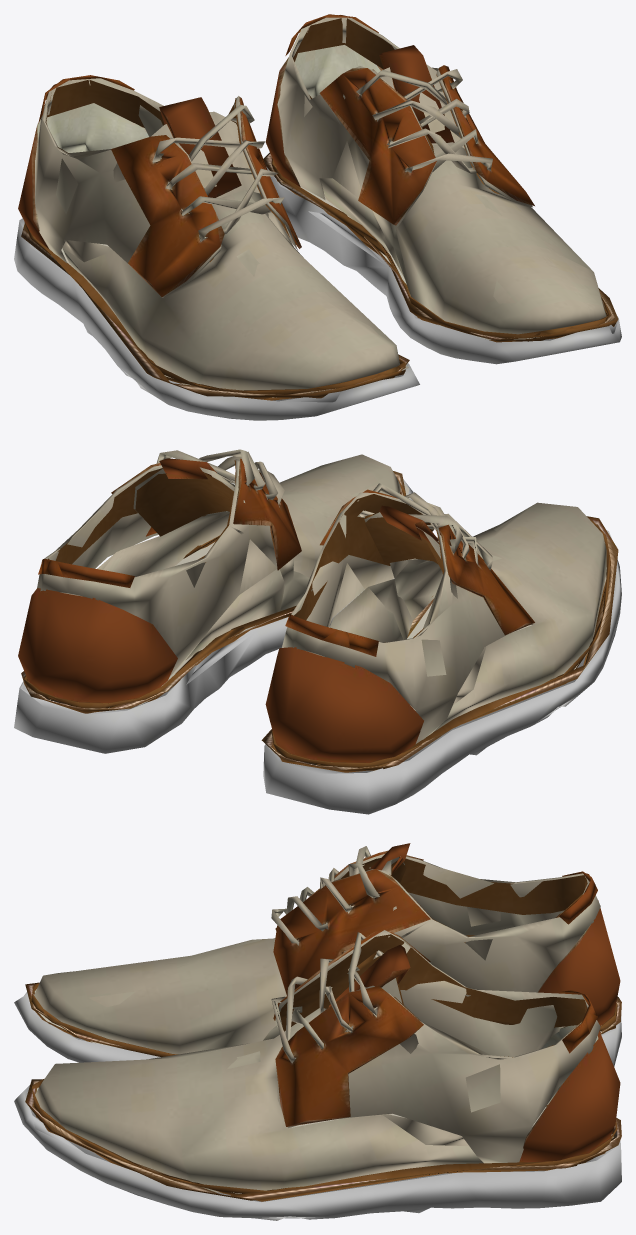
The model's file is shoes_tan.glb.
The picture shows the model from 3 angles, top to bottom: view 1: azimuth 30°, elevation 25°; view 2: azimuth 150°, elevation 25°; view 3: azimuth 270°, elevation 25°; orthographic projection.
Visible parts, largest first — view 1: shoes_tan; view 2: shoes_tan; view 3: shoes_tan.
Part boxes in pixels (<box>): shoes_tan: <box>14,14,621,420</box>; shoes_tan: <box>14,449,621,814</box>; shoes_tan: <box>14,843,621,1220</box>.
Bounding box in the file's own units: 0.2441 × 0.119 × 0.298.
14 materials, 14 textured.
